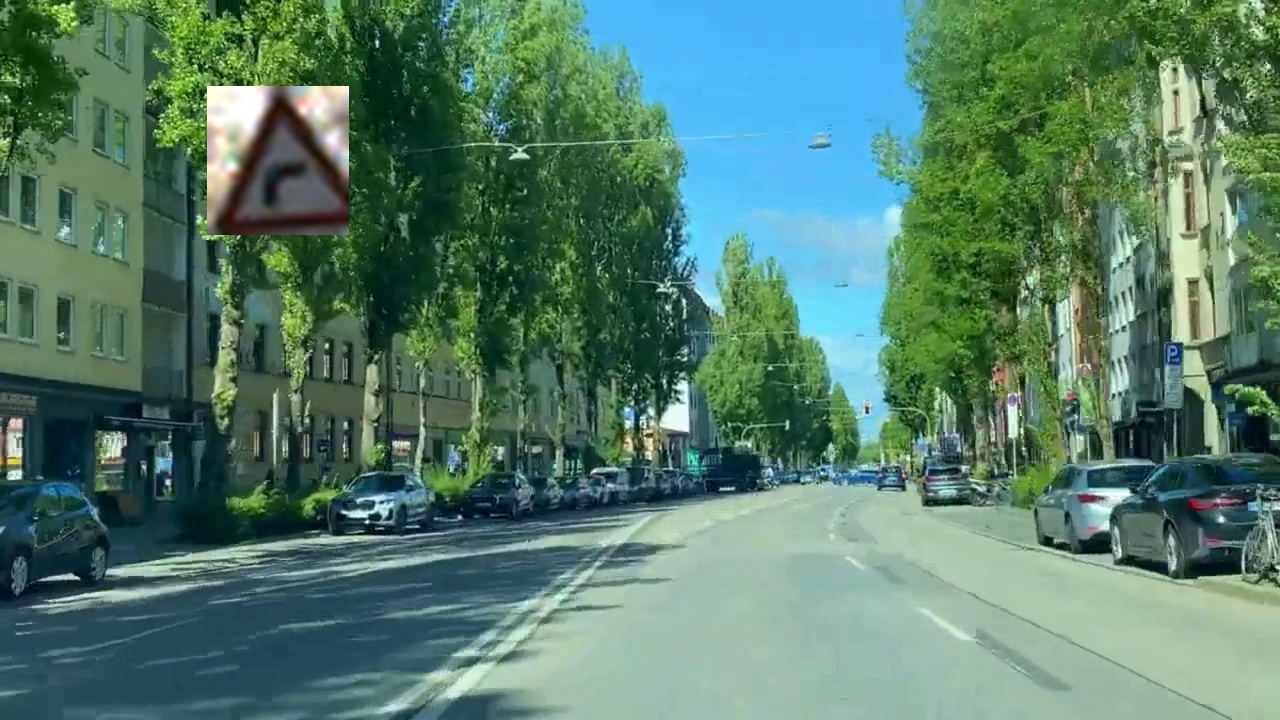Curve right: (207, 86, 349, 235)
